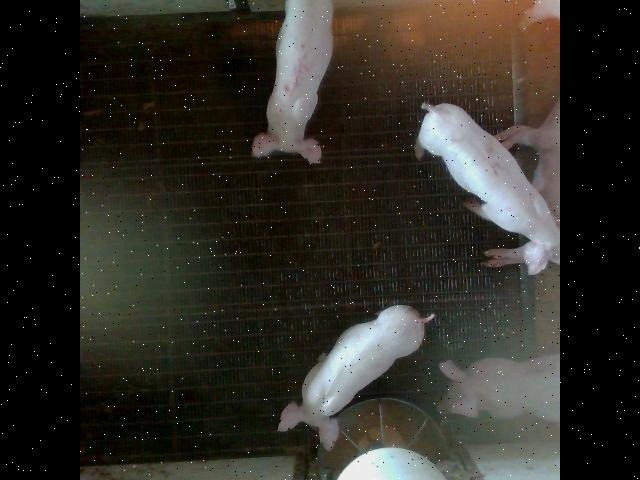pig-5: (251, 0, 332, 162)
